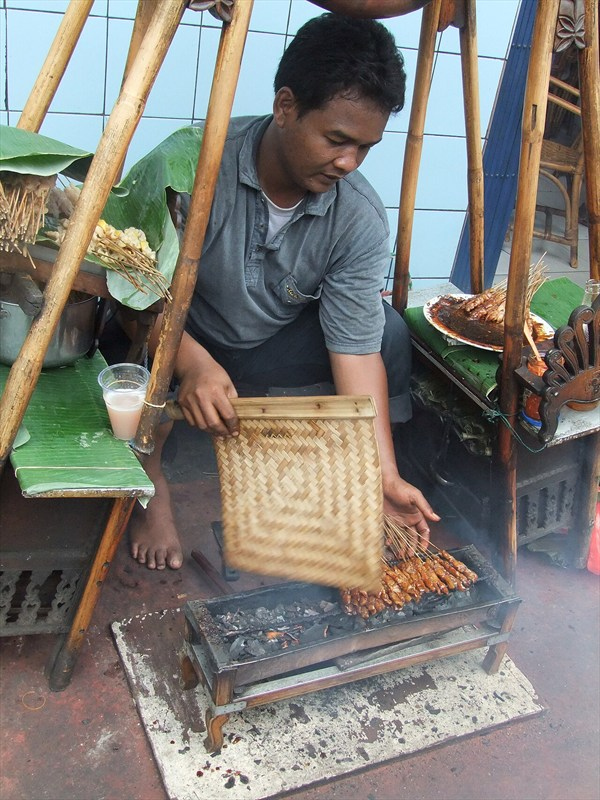Sate Ayam: (35, 16, 561, 595)
